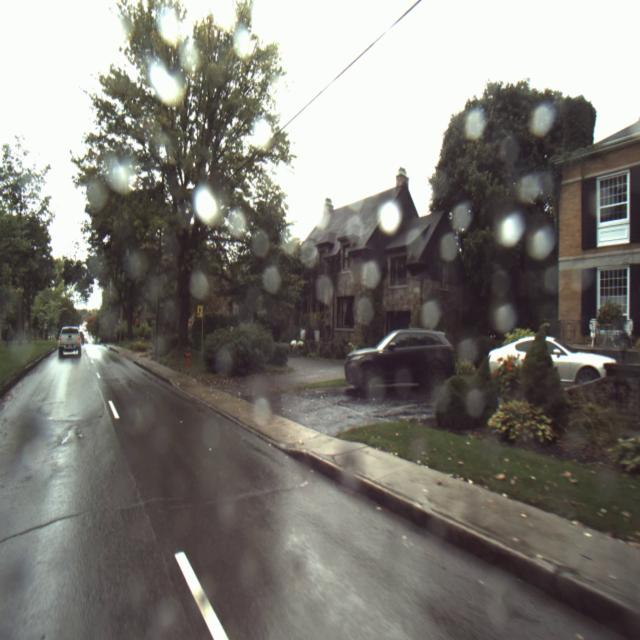car: (345, 329, 454, 397), (490, 334, 618, 388), (57, 327, 82, 359)
